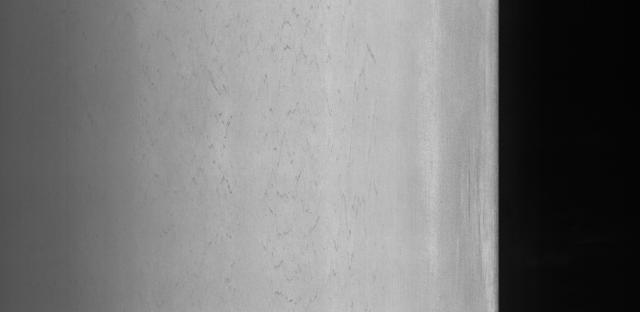silk_spot: (146, 6, 385, 301)
